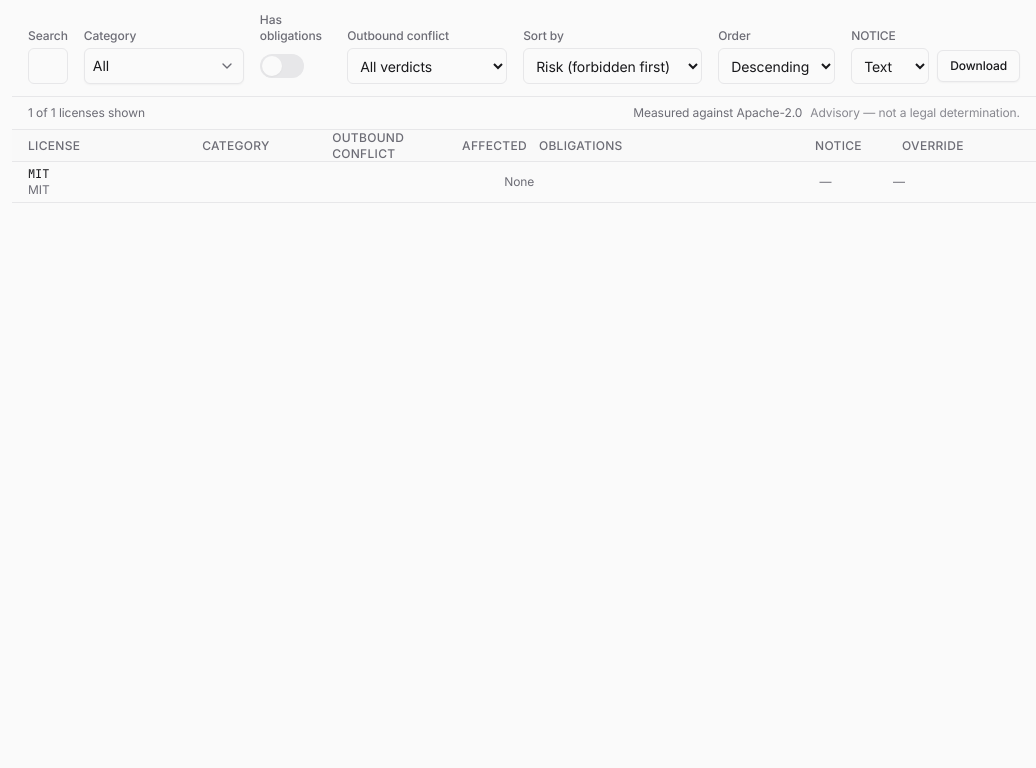
it: ComplianceTab unified grid › passes the verdict filter through to the API
The image size is (1036, 768).
Expected: the row with test id "compliance-row" is shown, [12,162,1035,203]
Select "Incompatible" in the dropdown with test id "compliance-conflict-filter" at (427, 66), box [347,48,507,84]
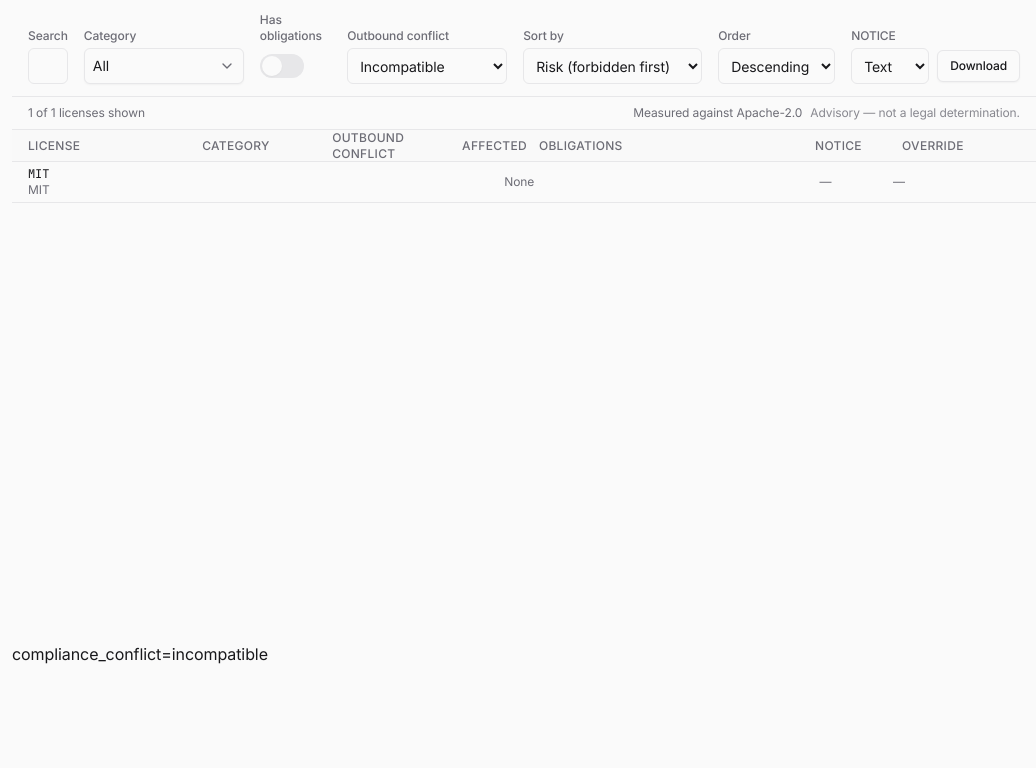
Now the dropdown with test id "compliance-conflict-filter" shows "Incompatible", box [347,48,507,84]
